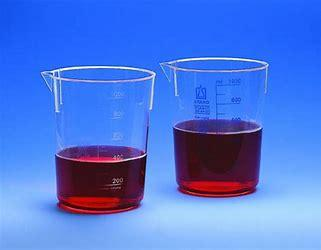Beaker: (36, 57, 156, 219), (155, 48, 274, 203)
